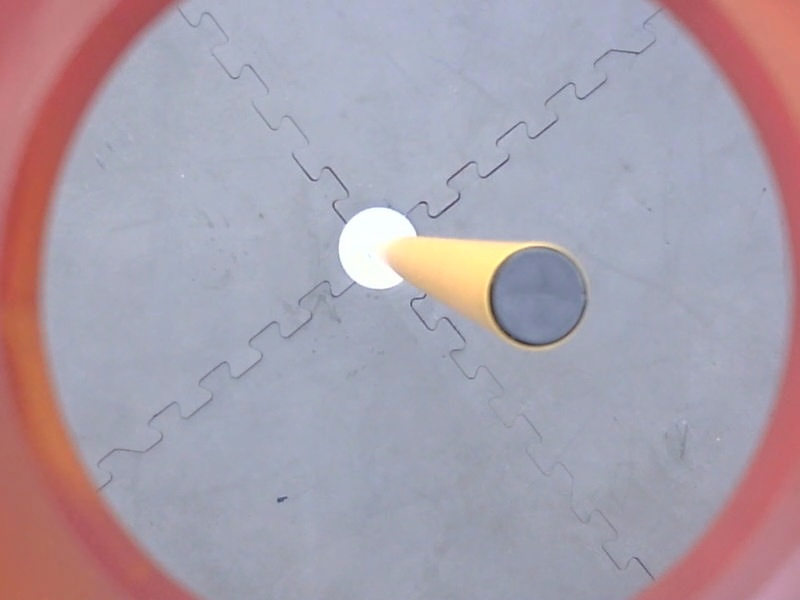tip: (479, 238, 598, 357)
